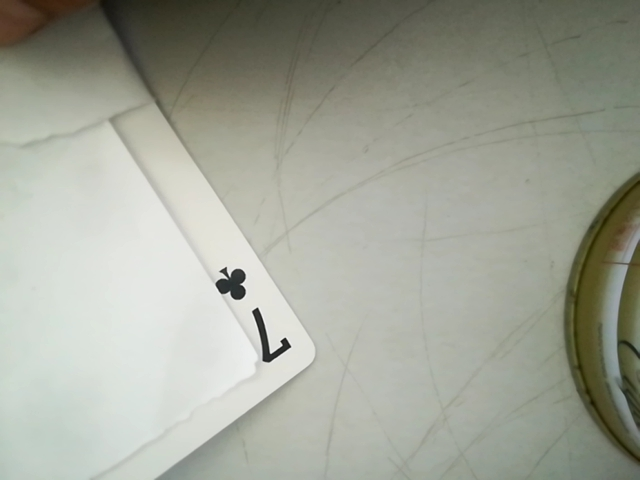mh 7: (218, 259, 289, 376)
